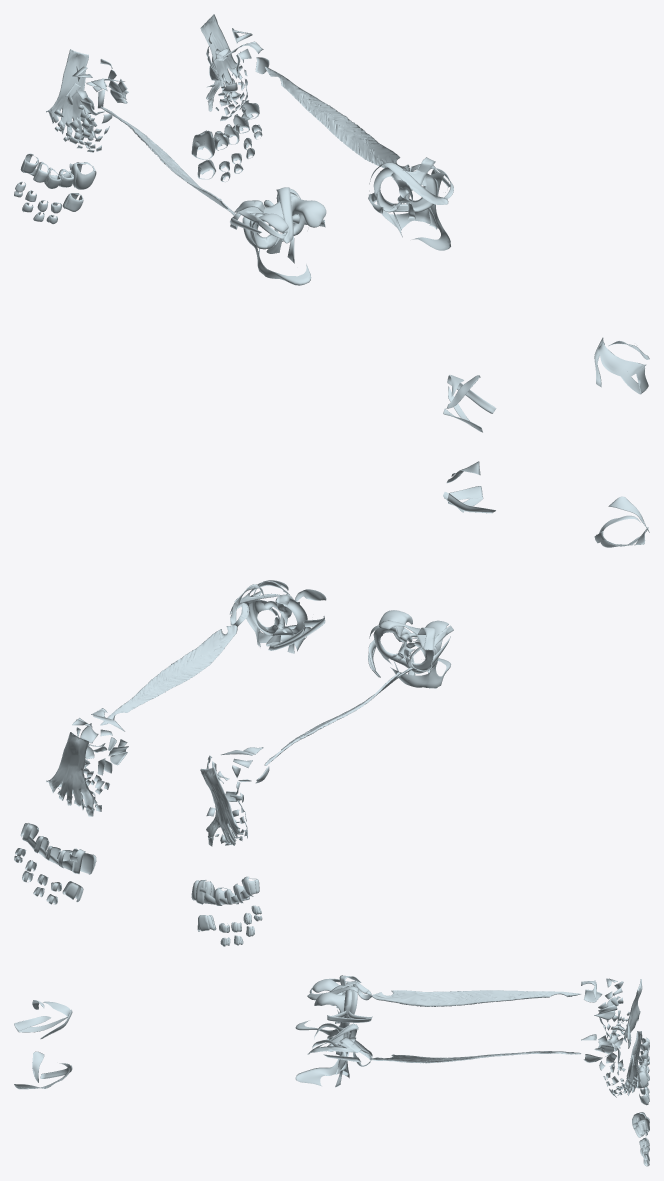
The model's file is lowerlimb__joints.7086c6ad86.glb.
3 views of the same model, one above another, from view 1: azimuth 30°, elevation 25°; view 2: azimuth 150°, elevation 25°; view 3: azimuth 270°, elevation 25° (orthographic). The views are drawn at different scales.
Parts seen in each view (by area): view 1: Interosseous membrane of leg.l, Articular capsule of knee joint.r, Long plantar ligament.r, Articular capsule of knee joint.l, Long plantar ligament.l, Interosseous membrane of leg.r, Articular capsules of metatarsophalangeal joints.l, Articular capsules of metatarsophalangeal joints.r, Frenula capsulae.l, Oblique popliteal ligament.l, Arcuate popliteal ligament.r; view 2: Interosseous membrane of leg.l, Long plantar ligament.l, Articular capsule of knee joint.r, Long plantar ligament.r, Articular capsule of knee joint.l, Interosseous membrane of leg.r; view 3: Interosseous membrane of leg.r, Articular capsule of knee joint.r, Interosseous membrane of leg.l, Articular capsule of knee joint.l, Long plantar ligament.l, Long plantar ligament.r, Arcuate popliteal ligament.l.
Part boxes in pixels (x1,y1,x2,y2): Interosseous membrane of leg.l: (265,66,409,170); Articular capsule of knee joint.r: (242,188,326,285); Long plantar ligament.r: (46,49,97,140); Articular capsule of knee joint.l: (369,165,450,250); Long plantar ligament.l: (200,14,240,111); Interosseous membrane of leg.r: (100,106,235,215); Articular capsules of metatarsophalangeal joints.l: (192,102,259,159); Articular capsules of metatarsophalangeal joints.r: (23,154,95,189); Frenula capsulae.l: (598,339,646,377); Oblique popliteal ligament.l: (379,162,448,204); Arcuate popliteal ligament.r: (236,201,284,239); Interosseous membrane of leg.l: (100,625,237,725); Long plantar ligament.l: (46,732,97,816); Articular capsule of knee joint.r: (369,610,450,688); Long plantar ligament.r: (200,767,240,846); Articular capsule of knee joint.l: (245,580,326,651); Interosseous membrane of leg.r: (264,667,412,765); Interosseous membrane of leg.r: (370,990,580,1006); Articular capsule of knee joint.r: (295,979,357,1036); Interosseous membrane of leg.l: (370,1051,580,1063); Articular capsule of knee joint.l: (295,1023,357,1086); Long plantar ligament.l: (624,1031,642,1095); Long plantar ligament.r: (624,979,642,1048); Arcuate popliteal ligament.l: (310,1031,360,1052).
Size of the model in its own units: 284 by 190 by 851.
